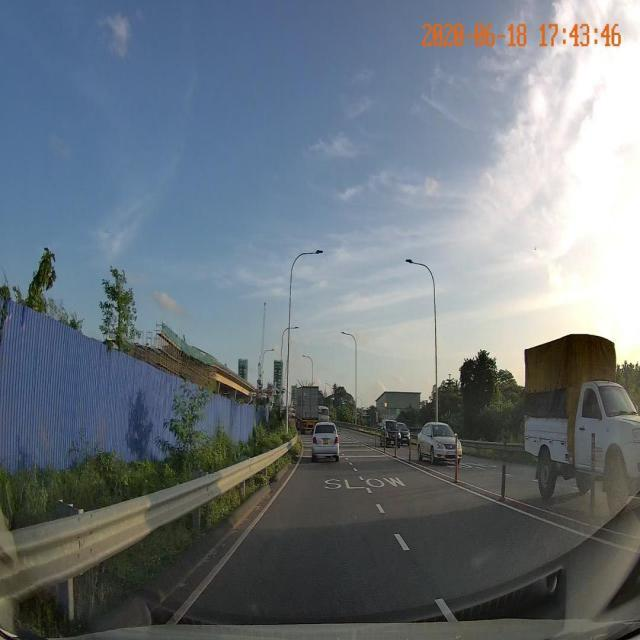Liniya 1: (162, 447, 304, 627), (387, 454, 639, 555), (434, 597, 459, 622), (392, 532, 411, 552), (375, 502, 386, 514), (365, 487, 373, 493)
SLOW: (322, 476, 407, 490)
